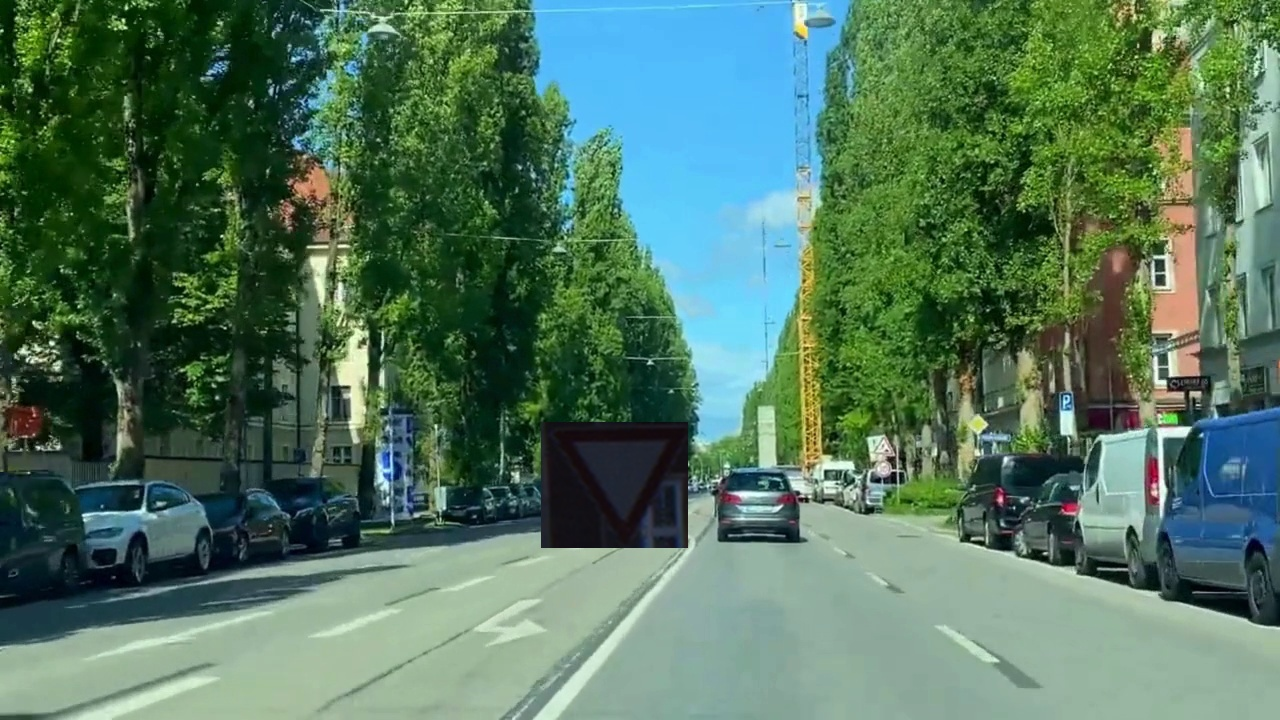Yield: (541, 422, 688, 548)
